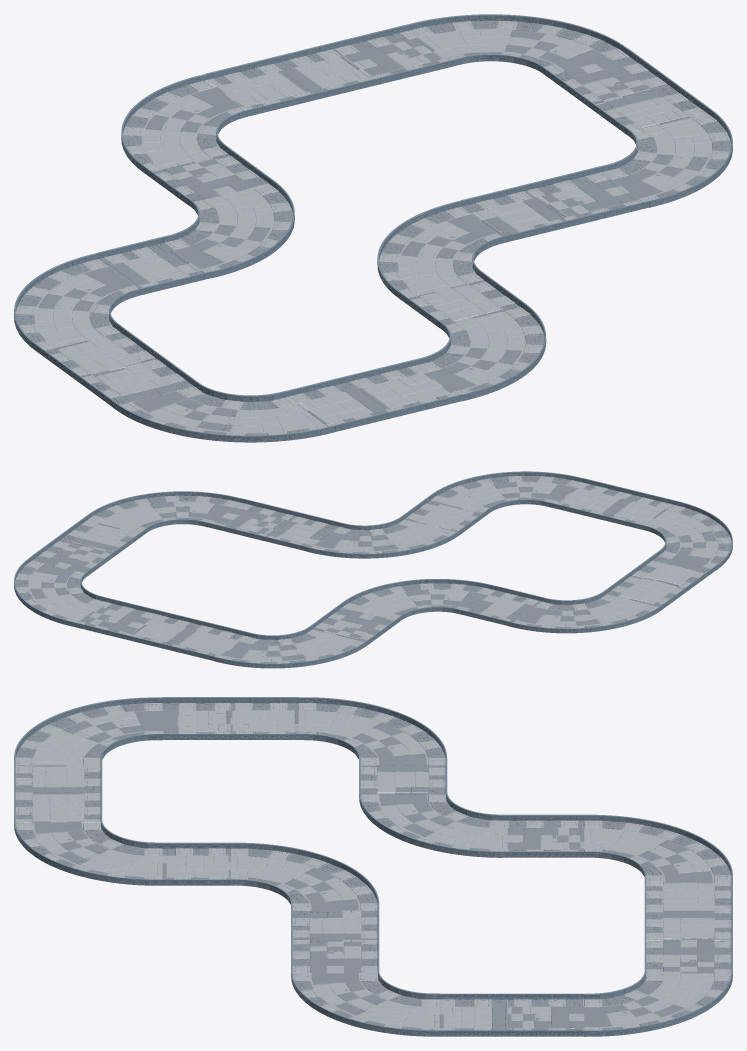
The model's file is FoundrySwitchbacks.glb.
The picture shows the model from 3 angles, top to bottom: view 1: azimuth 30°, elevation 25°; view 2: azimuth 150°, elevation 25°; view 3: azimuth 270°, elevation 25°; orthographic projection. The views are drawn at different scales.
Parts seen in each view (by area): view 1: DriftCircuitPavingSlate_S12_02, DriftCircuitPavingSlate_S01_02, DriftCircuitPavingSlate_S15_01, DriftCircuitPavingSlate_S10_01, DriftCircuitPavingSlate_S03_01, DriftCircuitPavingSlate_S06_01, DriftCircuitPavingSlate_S18_01, DriftCircuitPavingSlate_S16_01, DriftCircuitPavingSlate_S20_01, DriftCircuitPavingSlate_S11_01, DriftCircuitPavingSlate_S13_01, DriftCircuitPavingSlate_S09_01 (+69 smaller); view 2: DriftCircuitPavingSlate_S01_02, DriftCircuitPavingSlate_S12_02, DriftCircuitPavingSlate_S10_01, DriftCircuitPavingSlate_S15_01, DriftCircuitPavingSlate_S11_01, DriftCircuitPavingSlate_S18_01, DriftCircuitPavingSlate_S06_01, DriftCircuitPavingSlate_S13_01, DriftCircuitPavingSlate_S09_01, DriftCircuitWallNeutral_S12_04, DriftCircuitPavingSlate_S16_01, DriftCircuitPavingDark_S19_02 (+74 smaller); view 3: DriftCircuitPavingSlate_S12_02, DriftCircuitPavingSlate_S01_02, DriftCircuitPavingSlate_S01_01, DriftCircuitPavingSlate_S12_01, DriftCircuitPavingSlate_S10_01, DriftCircuitPavingSlate_S15_01, DriftCircuitPavingSlate_S20_01, DriftCircuitPavingSlate_S09_01, DriftCircuitPavingDark_S07_02, DriftCircuitPavingSlate_S16_01, DriftCircuitPavingSlate_S13_01, DriftCircuitPavingDark_S02_02 (+66 smaller).
Boxes of the visible parts, x1=… form: DriftCircuitPavingSlate_S12_02: x1=300, y1=373, x2=450, y2=423; DriftCircuitPavingSlate_S01_02: x1=217, y1=57, x2=366, y2=106; DriftCircuitPavingSlate_S15_01: x1=52, y1=337, x2=154, y2=375; DriftCircuitPavingSlate_S10_01: x1=411, y1=281, x2=514, y2=321; DriftCircuitPavingSlate_S03_01: x1=419, y1=29, x2=592, y2=58; DriftCircuitPavingSlate_S06_01: x1=641, y1=118, x2=710, y2=191; DriftCircuitPavingSlate_S18_01: x1=203, y1=188, x2=272, y2=261; DriftCircuitPavingSlate_S16_01: x1=36, y1=274, x2=105, y2=347; DriftCircuitPavingSlate_S20_01: x1=143, y1=95, x2=212, y2=168; DriftCircuitPavingSlate_S11_01: x1=454, y1=311, x2=523, y2=384; DriftCircuitPavingSlate_S13_01: x1=150, y1=403, x2=322, y2=432; DriftCircuitPavingSlate_S09_01: x1=399, y1=222, x2=469, y2=294; DriftCircuitPavingSlate_S01_02: x1=135, y1=620, x2=239, y2=655; DriftCircuitPavingSlate_S12_02: x1=559, y1=488, x2=663, y2=523; DriftCircuitPavingSlate_S10_01: x1=406, y1=503, x2=477, y2=530; DriftCircuitPavingSlate_S15_01: x1=611, y1=576, x2=682, y2=604; DriftCircuitPavingSlate_S11_01: x1=443, y1=482, x2=557, y2=506; DriftCircuitPavingSlate_S18_01: x1=355, y1=589, x2=468, y2=614; DriftCircuitPavingSlate_S06_01: x1=100, y1=502, x2=214, y2=526; DriftCircuitPavingSlate_S13_01: x1=658, y1=510, x2=716, y2=558; DriftCircuitPavingSlate_S09_01: x1=333, y1=526, x2=447, y2=551; DriftCircuitWallNeutral_S12_04: x1=551, y1=478, x2=673, y2=529; DriftCircuitPavingSlate_S16_01: x1=536, y1=601, x2=649, y2=625; DriftCircuitPavingDark_S19_02: x1=313, y1=608, x2=393, y2=641; DriftCircuitPavingSlate_S12_02: x1=32, y1=766, x2=84, y2=822; DriftCircuitPavingSlate_S01_02: x1=662, y1=882, x2=714, y2=938; DriftCircuitPavingSlate_S01_01: x1=646, y1=882, x2=731, y2=939; DriftCircuitPavingSlate_S12_01: x1=15, y1=765, x2=100, y2=822; DriftCircuitPavingSlate_S10_01: x1=164, y1=848, x2=230, y2=879; DriftCircuitPavingSlate_S15_01: x1=230, y1=703, x2=294, y2=733; DriftCircuitPavingSlate_S20_01: x1=584, y1=828, x2=709, y2=873; DriftCircuitPavingSlate_S09_01: x1=230, y1=856, x2=355, y2=901; DriftCircuitPavingDark_S07_02: x1=292, y1=941, x2=377, y2=973; DriftCircuitPavingSlate_S16_01: x1=298, y1=711, x2=423, y2=755; DriftCircuitPavingSlate_S13_01: x1=34, y1=712, x2=140, y2=765; DriftCircuitPavingDark_S02_02: x1=646, y1=940, x2=731, y2=971.
Size of what is drawn, in the model's own units: 543 by 4.79 by 494.
